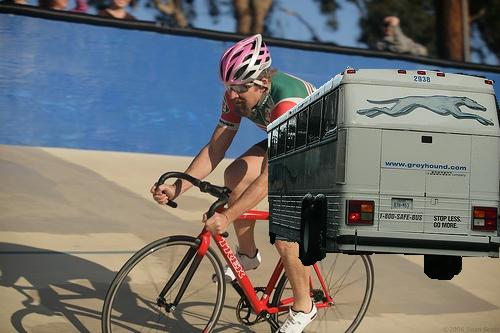tampered: (268, 67, 500, 280)
